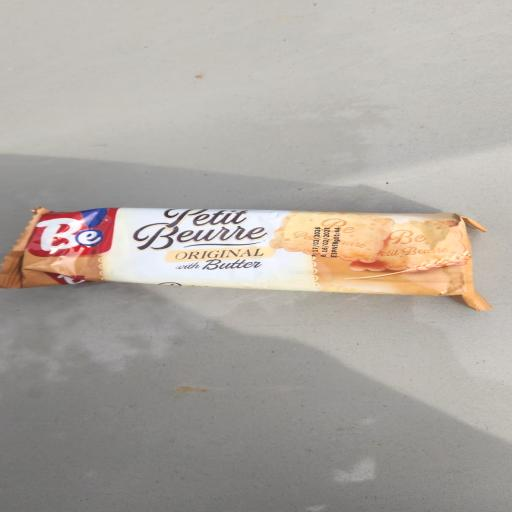petit-beurre: (0, 187, 512, 360)
